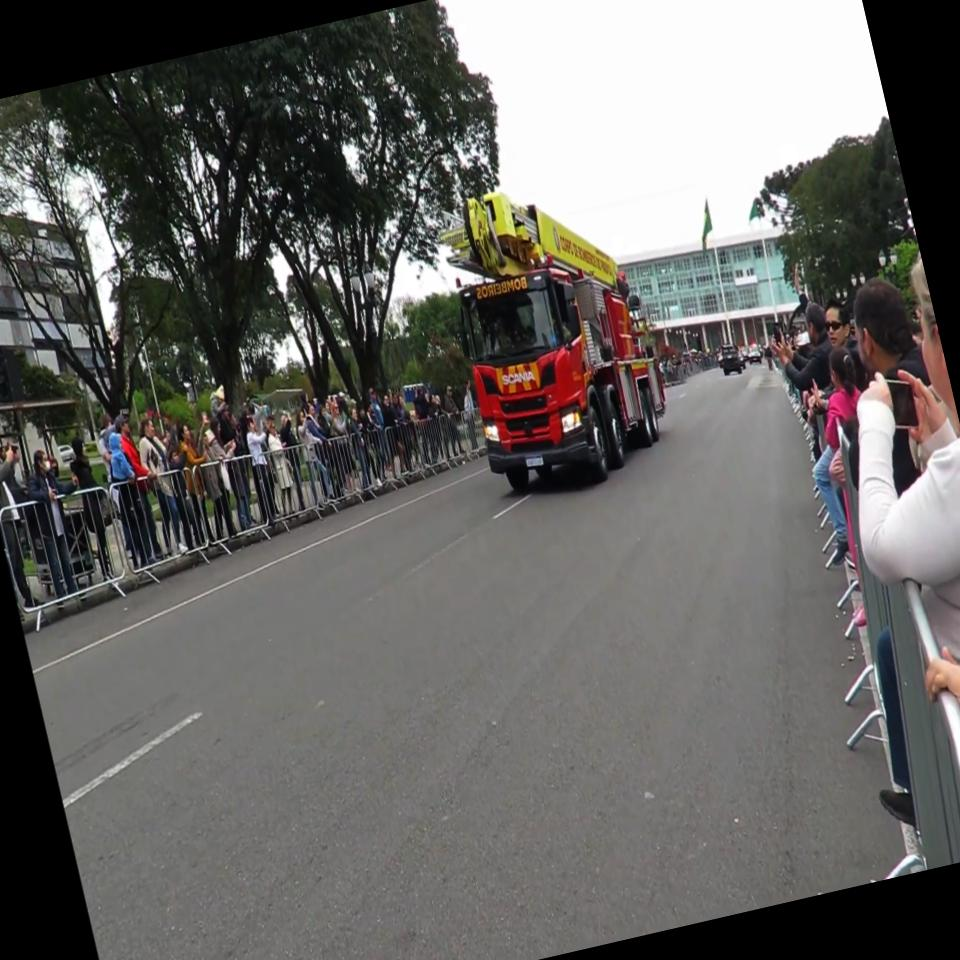viatura: (426, 166, 683, 501)
